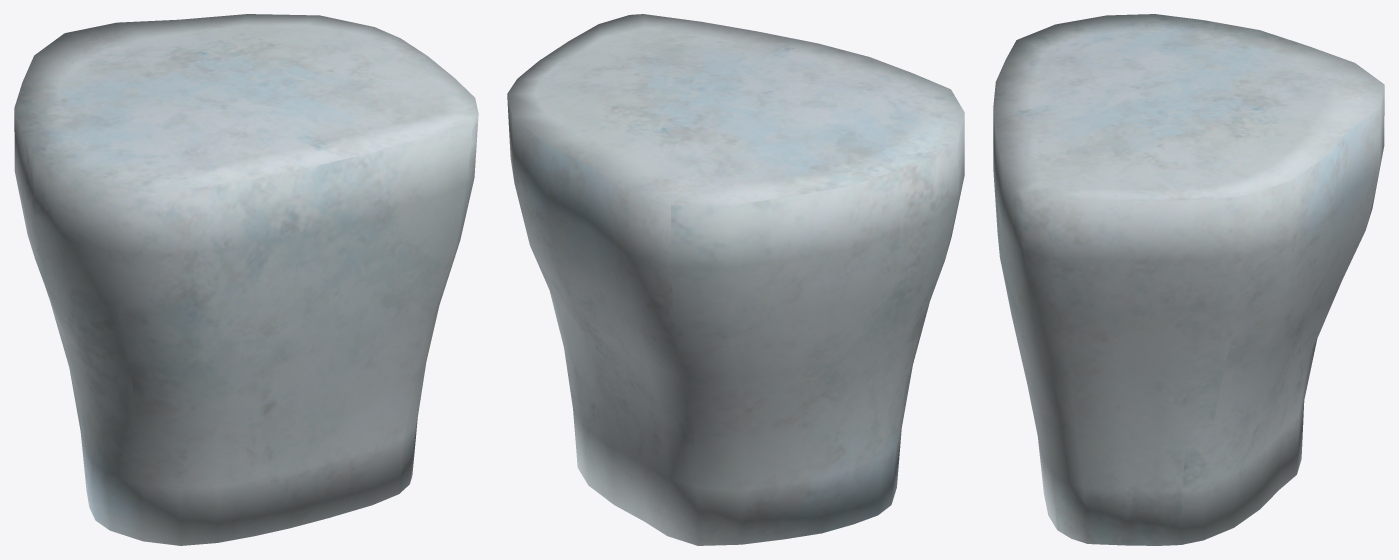
The model's file is P_RockDesert_Shelf06.obj.
3 renders of one model, left to right at view 1: azimuth 30°, elevation 25°; view 2: azimuth 150°, elevation 25°; view 3: azimuth 270°, elevation 25°, orthographic. The views are drawn at different scales.
Bounding box in the file's own units: 25.95 × 24.43 × 22.85.
